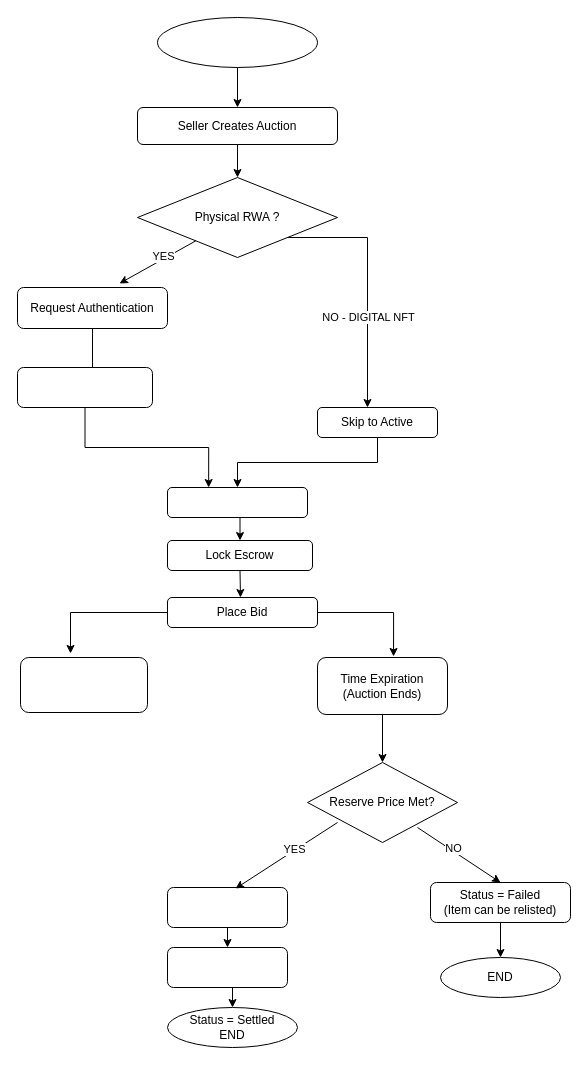
The diagram is 588 pixels wide and 1065 high, and some of its shapes have lost their labels. Each missing label, with the centre of its shape:
Attest Status: the point at 84,387
Auction Active: the point at 237,502
Initialize Platform: the point at 237,42
REFUND LOSERS: the point at 227,967
Settle Auction: the point at 227,907
Withdraw Escrow (For Non Winners): the point at 84,684
